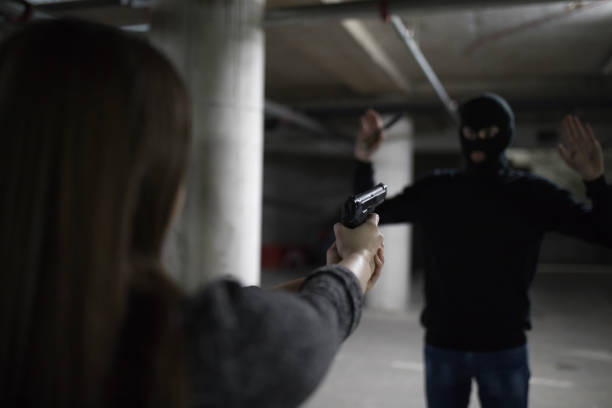gun: (341, 182, 390, 229)
